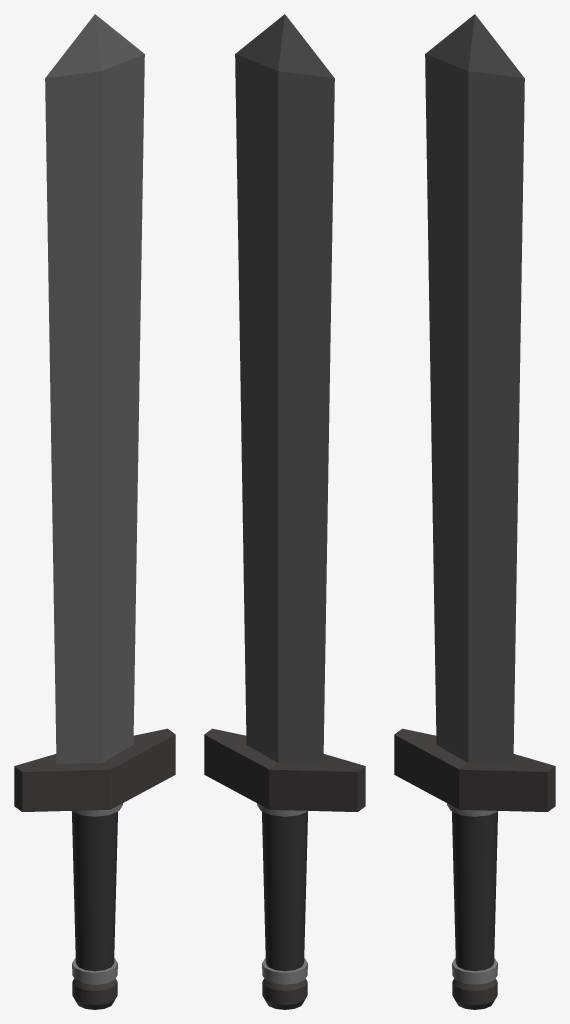
Rendered from Short Sword.glb.
3 renders of one model, left to right at view 1: azimuth 30°, elevation 25°; view 2: azimuth 150°, elevation 25°; view 3: azimuth 330°, elevation 25°, orthographic.
Visible parts, largest first — view 1: Short Sword; view 2: Short Sword; view 3: Short Sword.
Part boxes in pixels (left/top/right/bottom): Short Sword: left=14, top=14, right=175, bottom=1009; Short Sword: left=204, top=14, right=365, bottom=1009; Short Sword: left=394, top=14, right=555, bottom=1009.
Size of the model in its own units: 0.12 by 0.738 by 0.042.
Materials: 1 (1 with a texture image).
